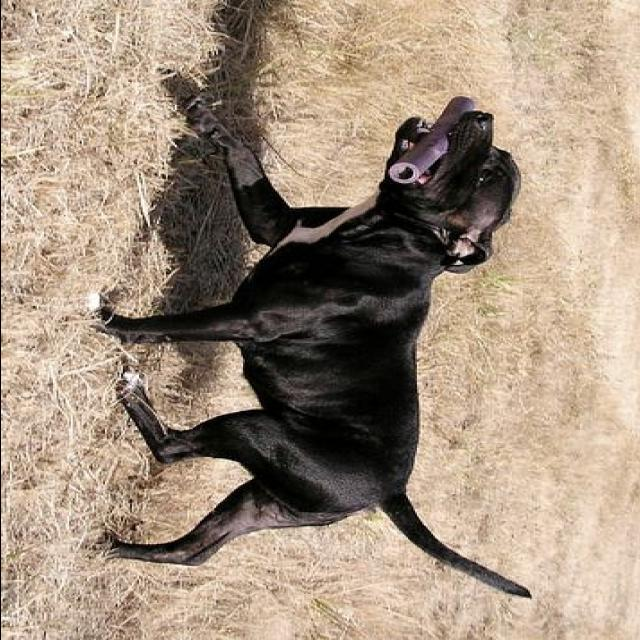staffordshire_bullterrier: (95, 98, 532, 598)
